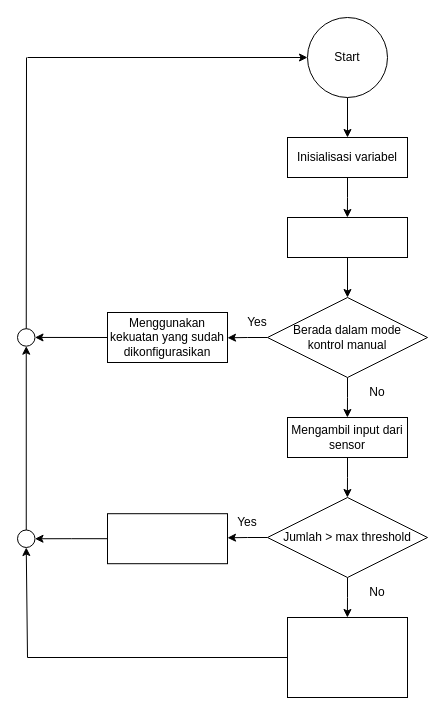
Image size: 445x715. Some labels were removed from this diagram. Each missing label, with the centre of its shape:
"Membaca input dari sensor" goes at [347,237].
"Memberikan kekuatan motor maksimal" goes at [167,538].
"Memetakan kekuatan motor relatif terhadap kekuatan maksimal motor dengan mapping" goes at [347,657].
